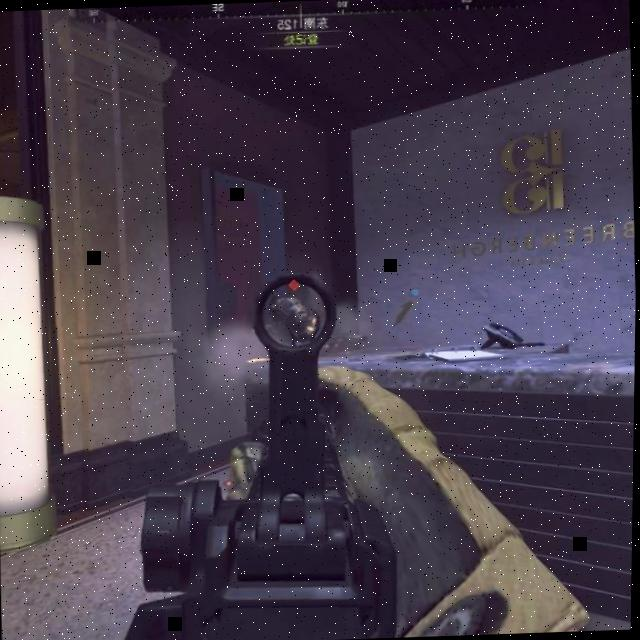MW2_body: (266, 280, 318, 346)
